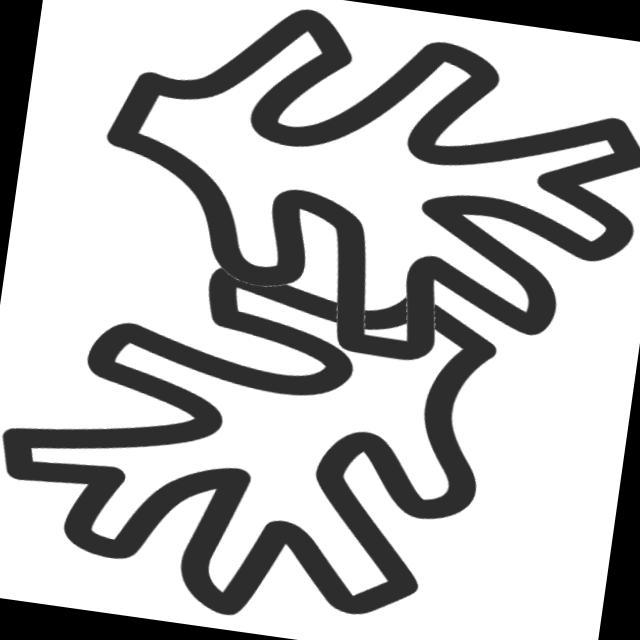coral: (73, 1, 640, 400), (1, 222, 521, 640)
